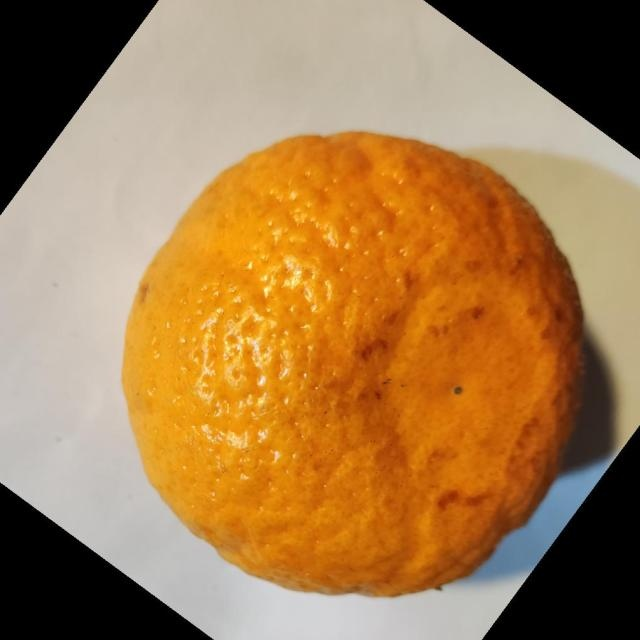agrume: (120, 129, 585, 598)
